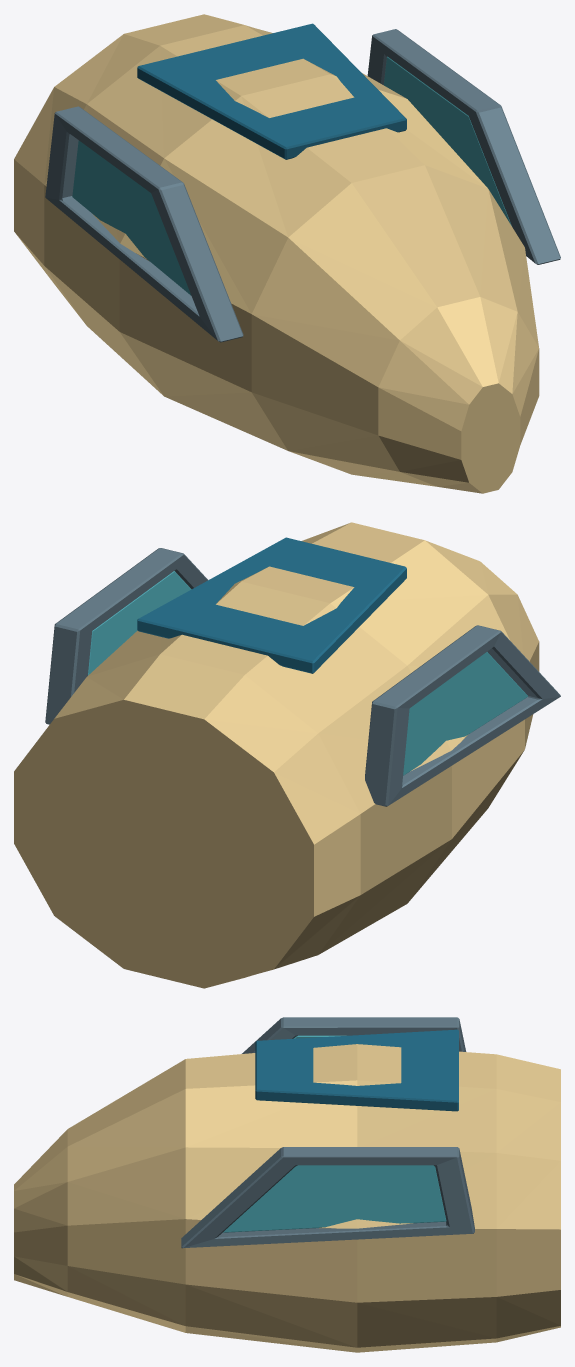
Rendered from EA_CargoNose.fbx.
3 renders of one model, top to bottom at view 1: azimuth 30°, elevation 25°; view 2: azimuth 150°, elevation 25°; view 3: azimuth 270°, elevation 25°, orthographic. The views are drawn at different scales.
Visible parts, largest first — view 1: EA_CargoNose; view 2: EA_CargoNose; view 3: EA_CargoNose.
Part boxes in pixels (x1,y1,x2,y2): EA_CargoNose: (14,14,560,493); EA_CargoNose: (14,522,560,988); EA_CargoNose: (14,1017,560,1352).
Size of the model in its own units: 0.618 by 0.5602 by 1.02.
